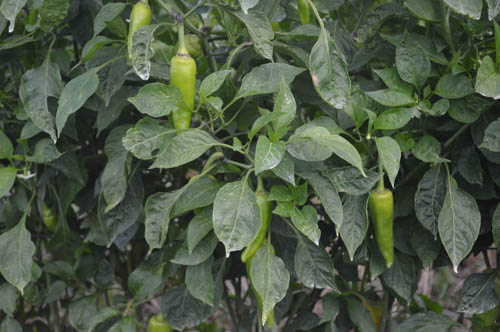ChiliPepper: (168, 57, 199, 132), (367, 191, 398, 264), (244, 191, 270, 265), (129, 6, 149, 56)
